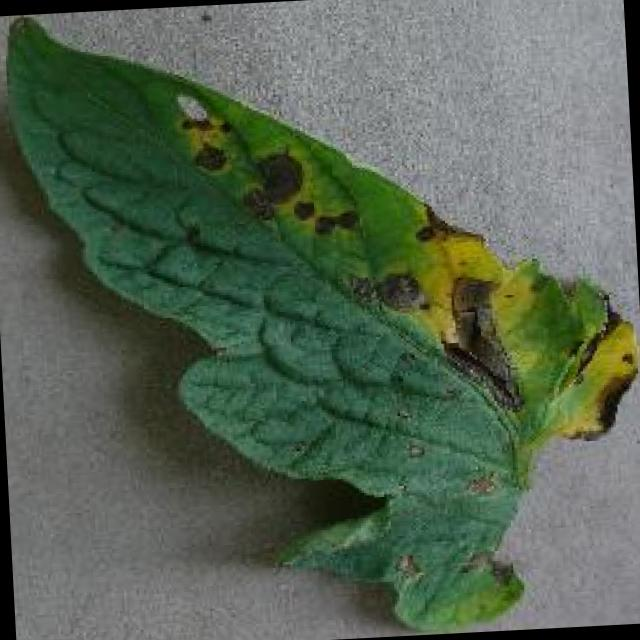Tomato_Early_Blight: (174, 49, 640, 471)
